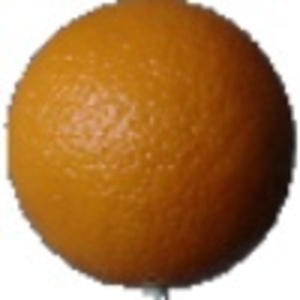laranja: (3, 2, 295, 292)
